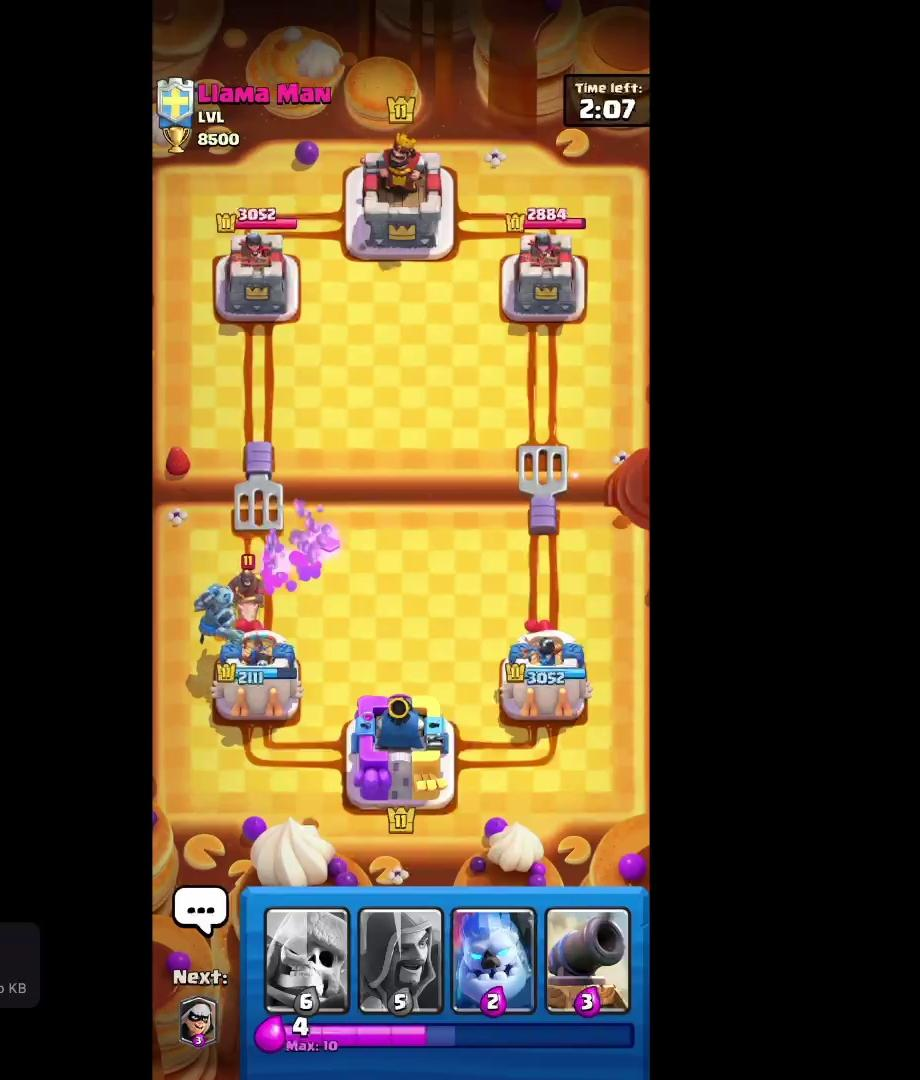Hog Rider: (227, 553, 269, 625)
